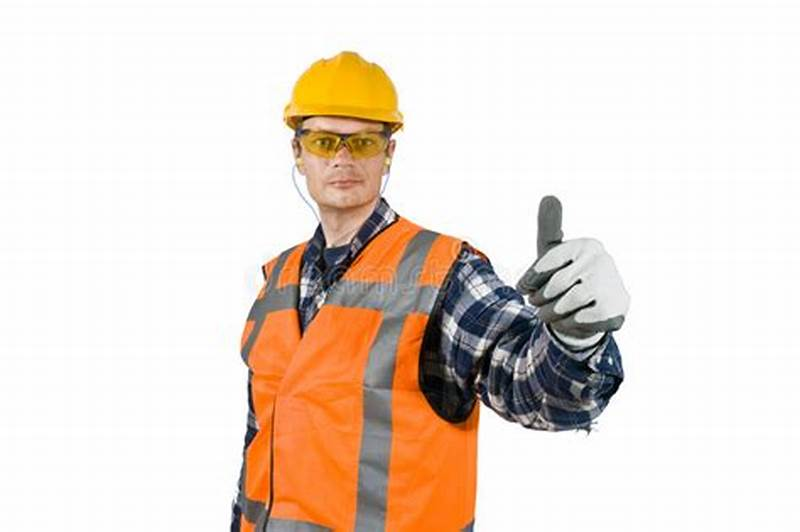safetyhat: (202, 38, 624, 530)
